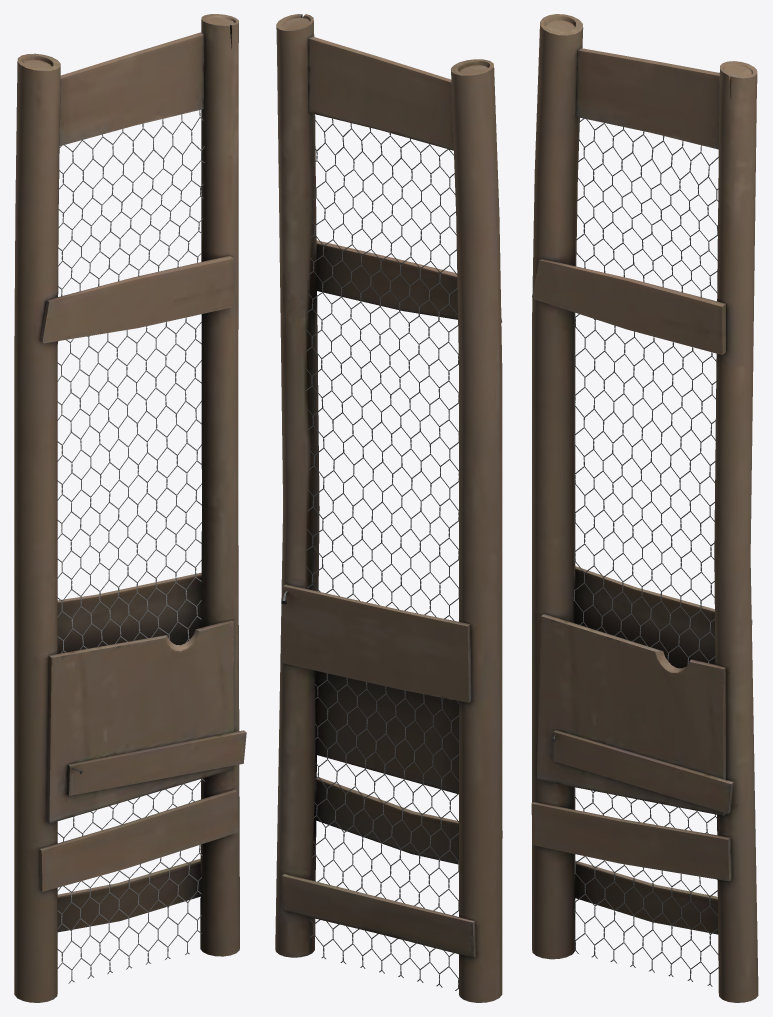
3 views of the same model, side by side, from view 1: azimuth 30°, elevation 25°; view 2: azimuth 150°, elevation 25°; view 3: azimuth 330°, elevation 25° (orthographic).
Visible parts, largest first — view 1: body0_model0_lod0_mesh1, body0_model0_lod0_mesh0; view 2: body0_model0_lod0_mesh1, body0_model0_lod0_mesh0; view 3: body0_model0_lod0_mesh1, body0_model0_lod0_mesh0.
Part boxes in pixels (x1,y1,x2,y2): body0_model0_lod0_mesh1: (14,14,246,1002); body0_model0_lod0_mesh0: (57,110,205,983); body0_model0_lod0_mesh1: (275,14,502,1002); body0_model0_lod0_mesh0: (305,114,458,990); body0_model0_lod0_mesh1: (531,14,758,1002); body0_model0_lod0_mesh0: (573,118,718,986).
Bounding box in the file's own units: 66.65 × 268 × 21.57.
Materials: 2 (2 with a texture image).
